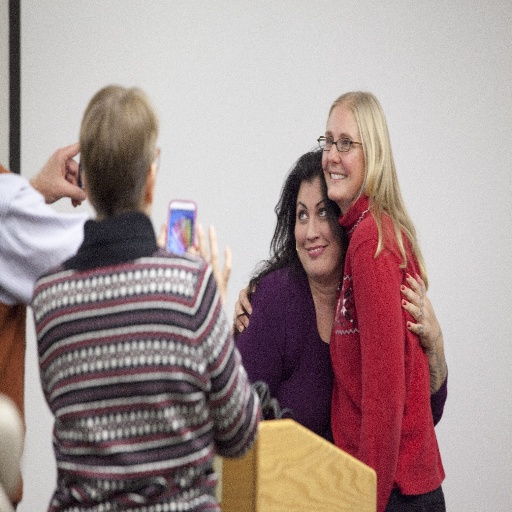hand: (186, 218, 232, 315), (32, 126, 83, 203), (397, 269, 441, 349), (229, 279, 260, 337), (155, 219, 197, 250)
